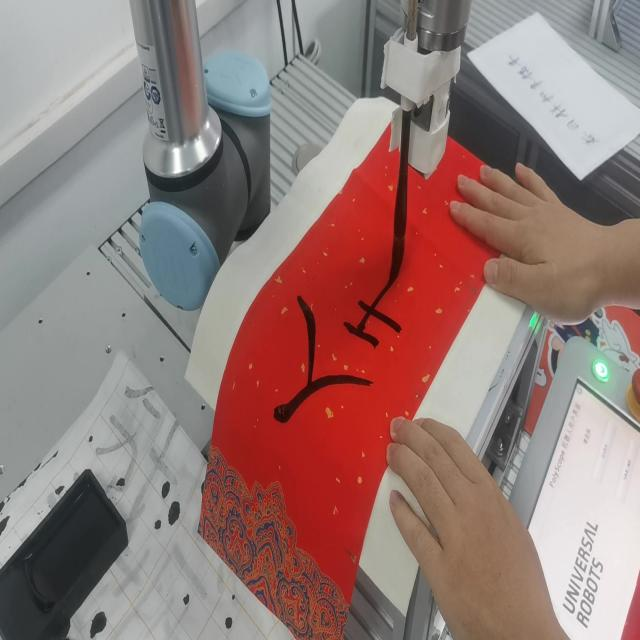head: (390, 233, 405, 284)
inkstone: (0, 469, 129, 640)
writing-brush: (389, 0, 426, 283)
